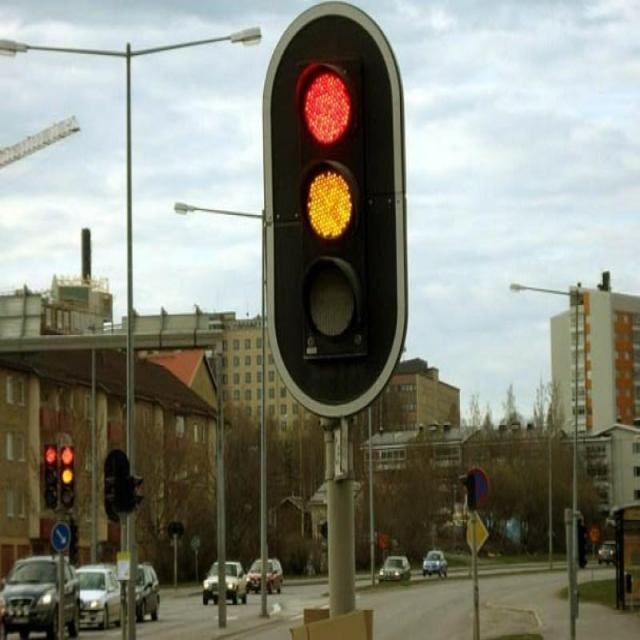yellow_light: (269, 4, 398, 403), (63, 445, 74, 506)
